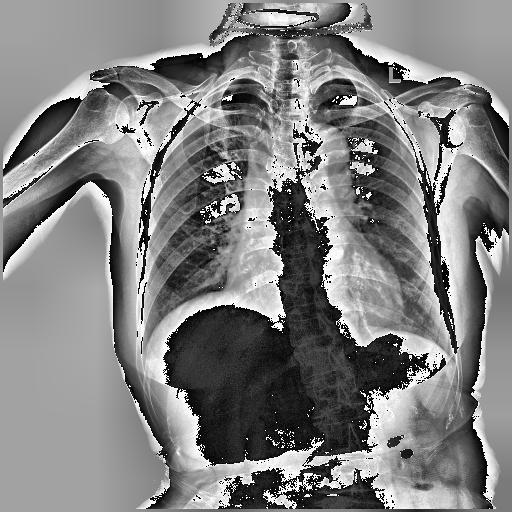0- Aortic enlargement: (298, 120, 356, 194), (293, 122, 352, 182), (292, 124, 350, 178)
3- Cardiomegaly: (226, 243, 403, 327), (222, 251, 406, 330), (228, 266, 402, 326)
